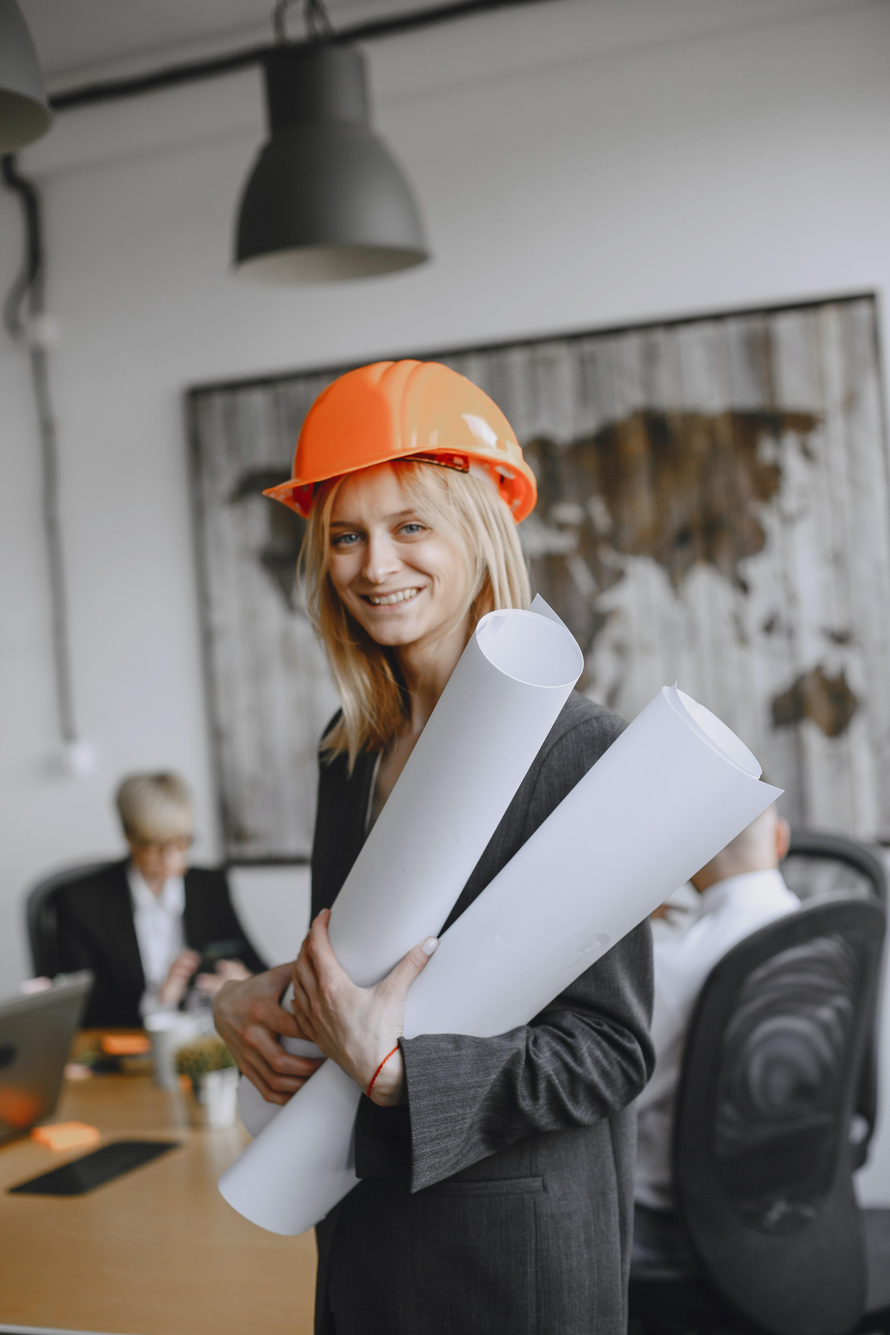Helmet: (234, 367, 583, 489)
